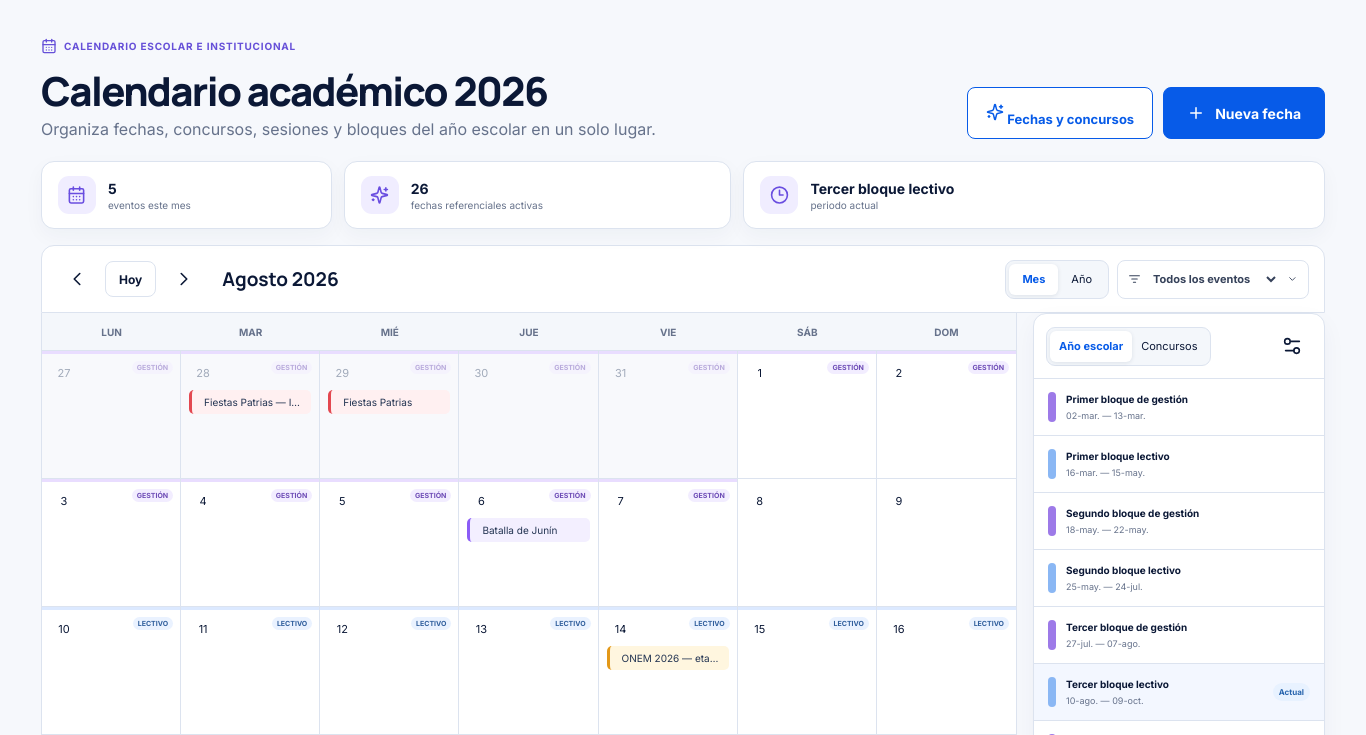
CalendarPage › lets the teacher configure which reference dates are active
Click the button "Fechas y concursos" at [1060, 113], box [967,87,1153,139]
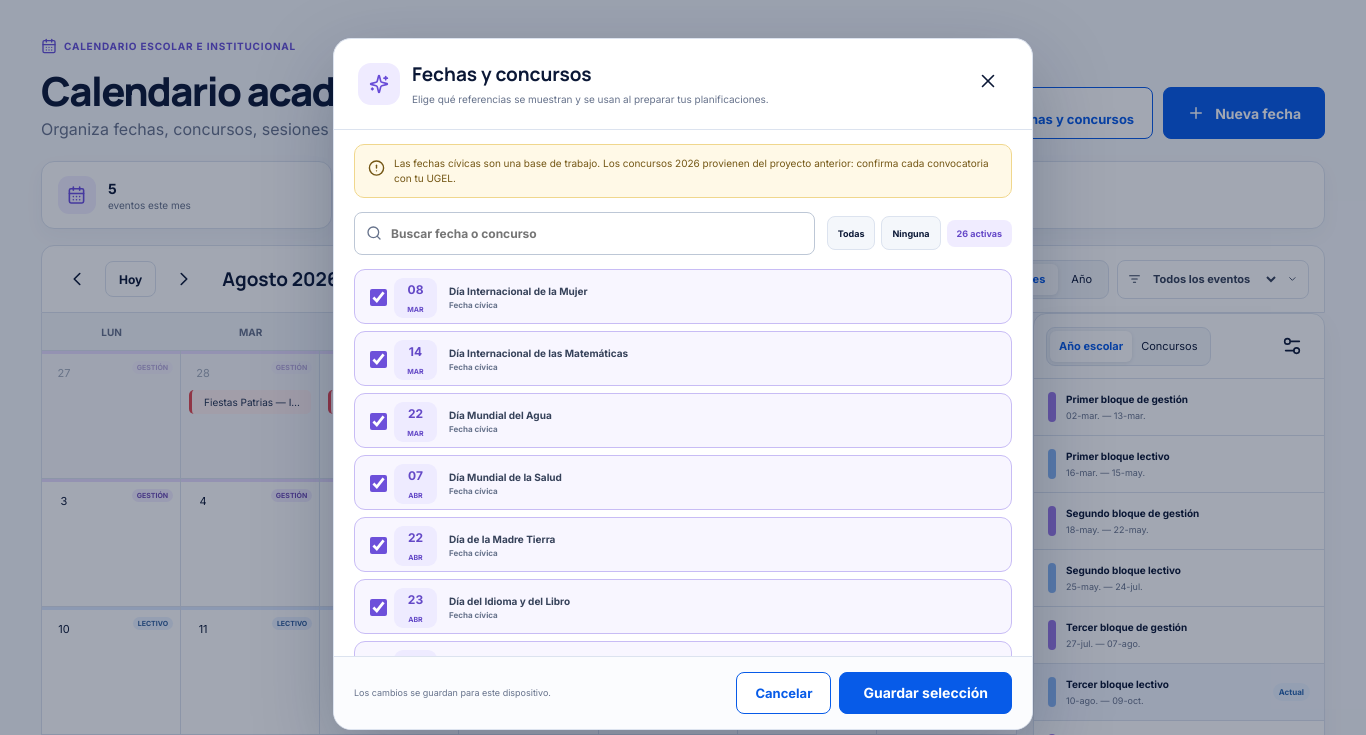
Now the text "26 activas" is shown, box [946,220,1012,247]
Click the button "Ninguna" at [911, 233], box [882,216,940,250]
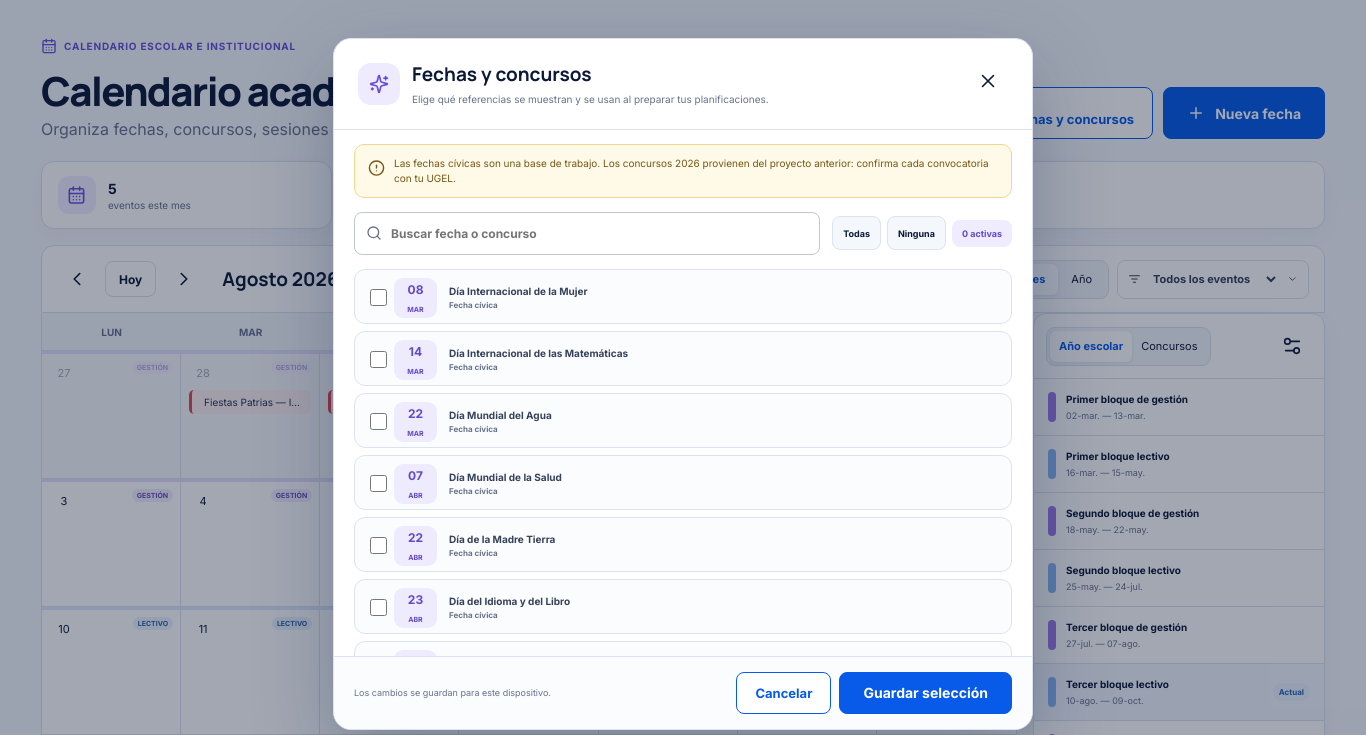
Click the button "Guardar selección" at [926, 693], box [839,672,1012,714]
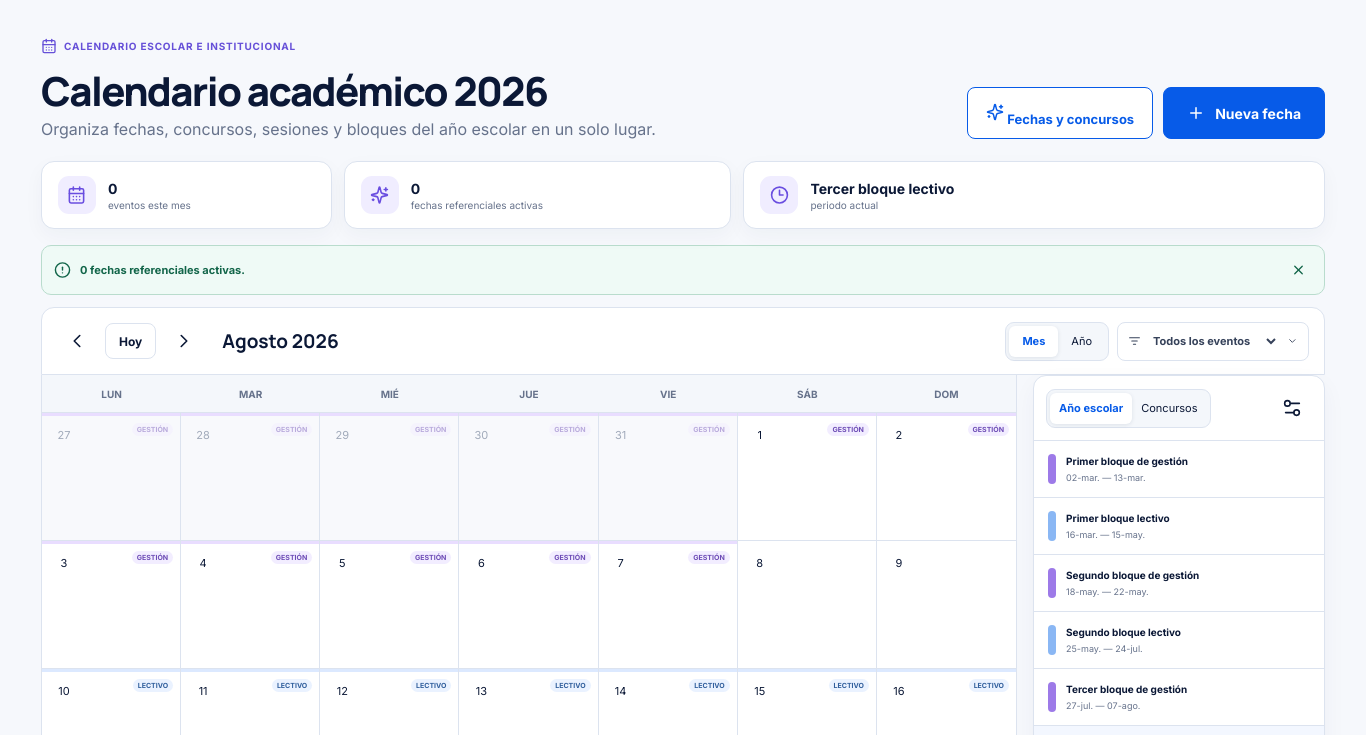
Now the button "Batalla de Junín" is gone
Now the message shows "0 fechas referenciales activas", box [80,263,245,277]
